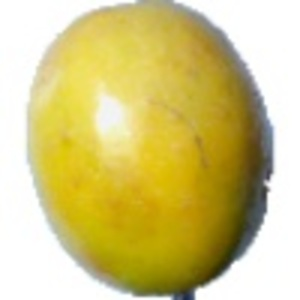maracujá: (23, 1, 282, 300)
